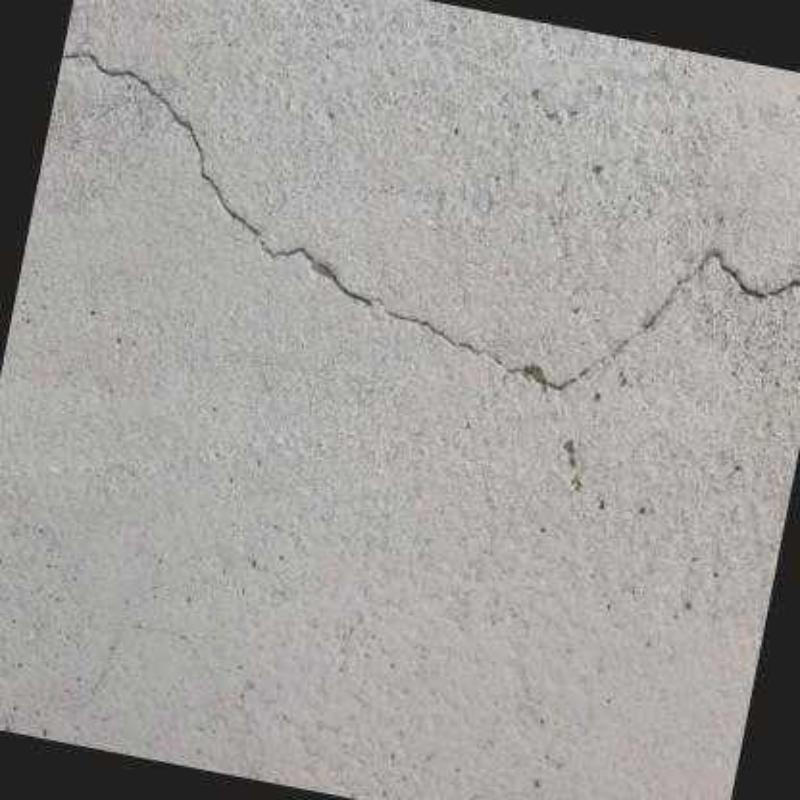pothole: (59, 46, 800, 393)
